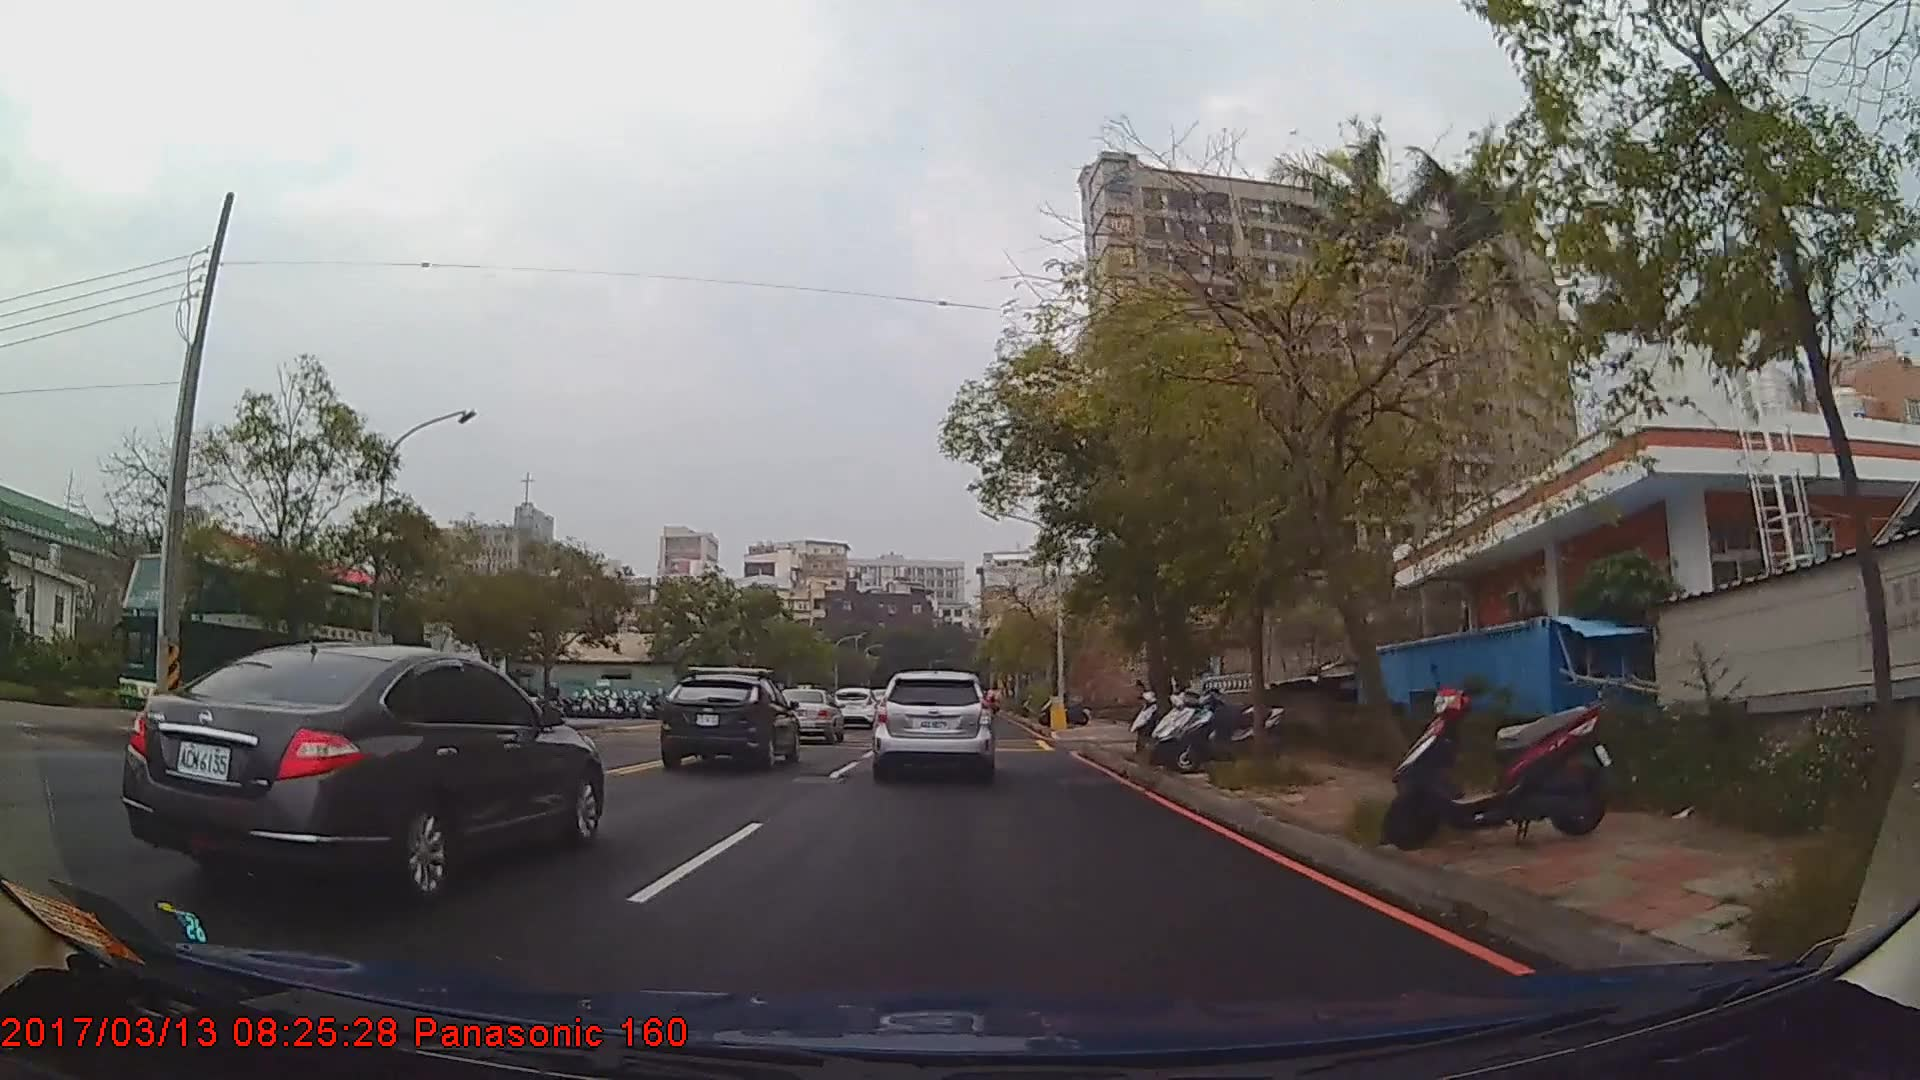vehicle: (120, 640, 604, 899), (108, 546, 427, 744), (657, 673, 800, 775), (873, 669, 992, 781), (773, 686, 841, 745), (831, 684, 878, 728)
